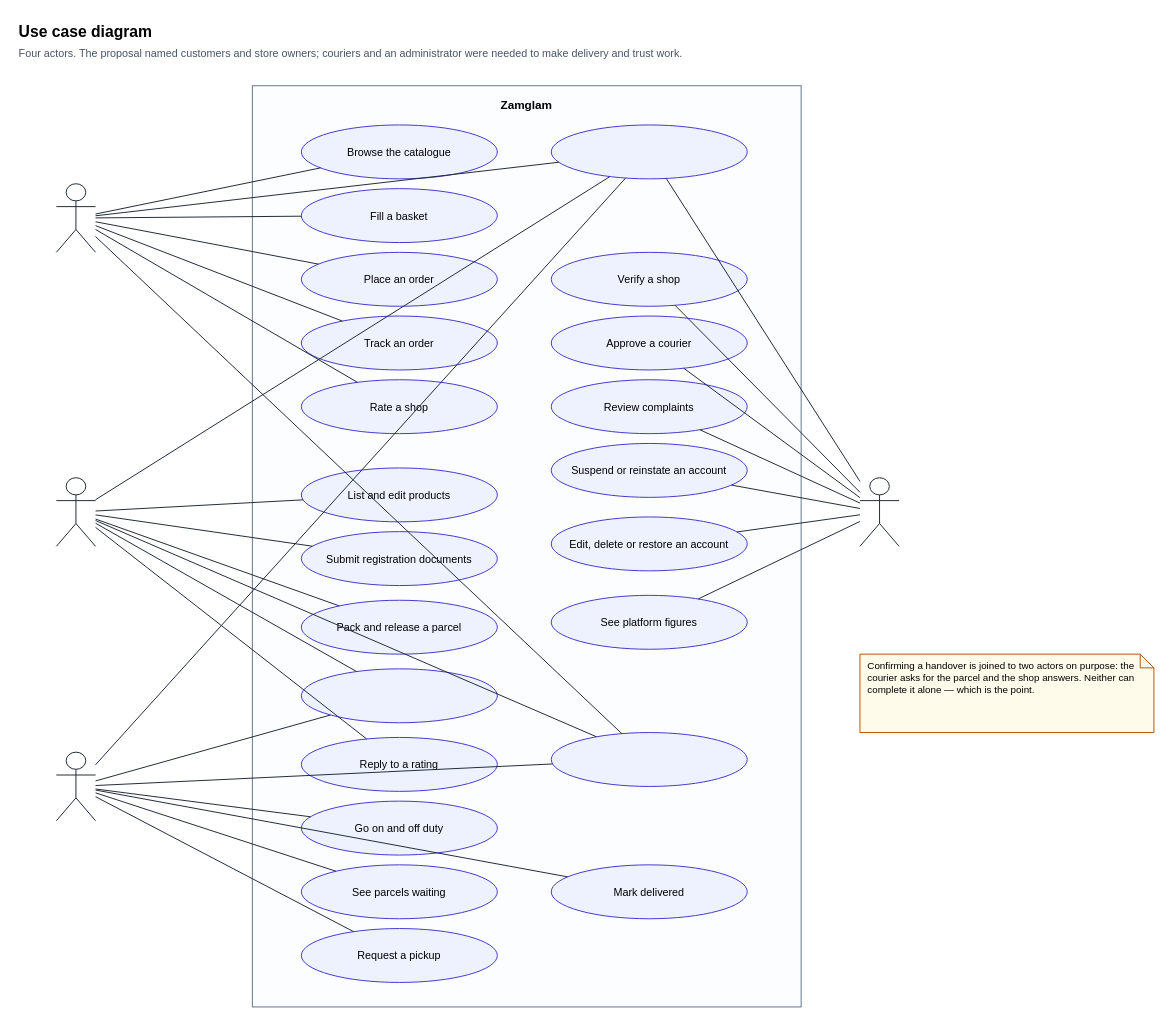
The diagram is 1171 pixels wide and 1024 high, and some of its shapes have lost their labels. The centre of each missing label's shape, as x and y in pixels:
"Administrator" goes at pixel 879 511.
"Confirm or deny a handover" goes at pixel 398 695.
"Courier" goes at pixel 75 786.
"Customer" goes at pixel 75 217.
"Register and sign in" goes at pixel 648 151.
"Report another party on an order" goes at pixel 648 759.
"Shop (vendor)" goes at pixel 75 511.
